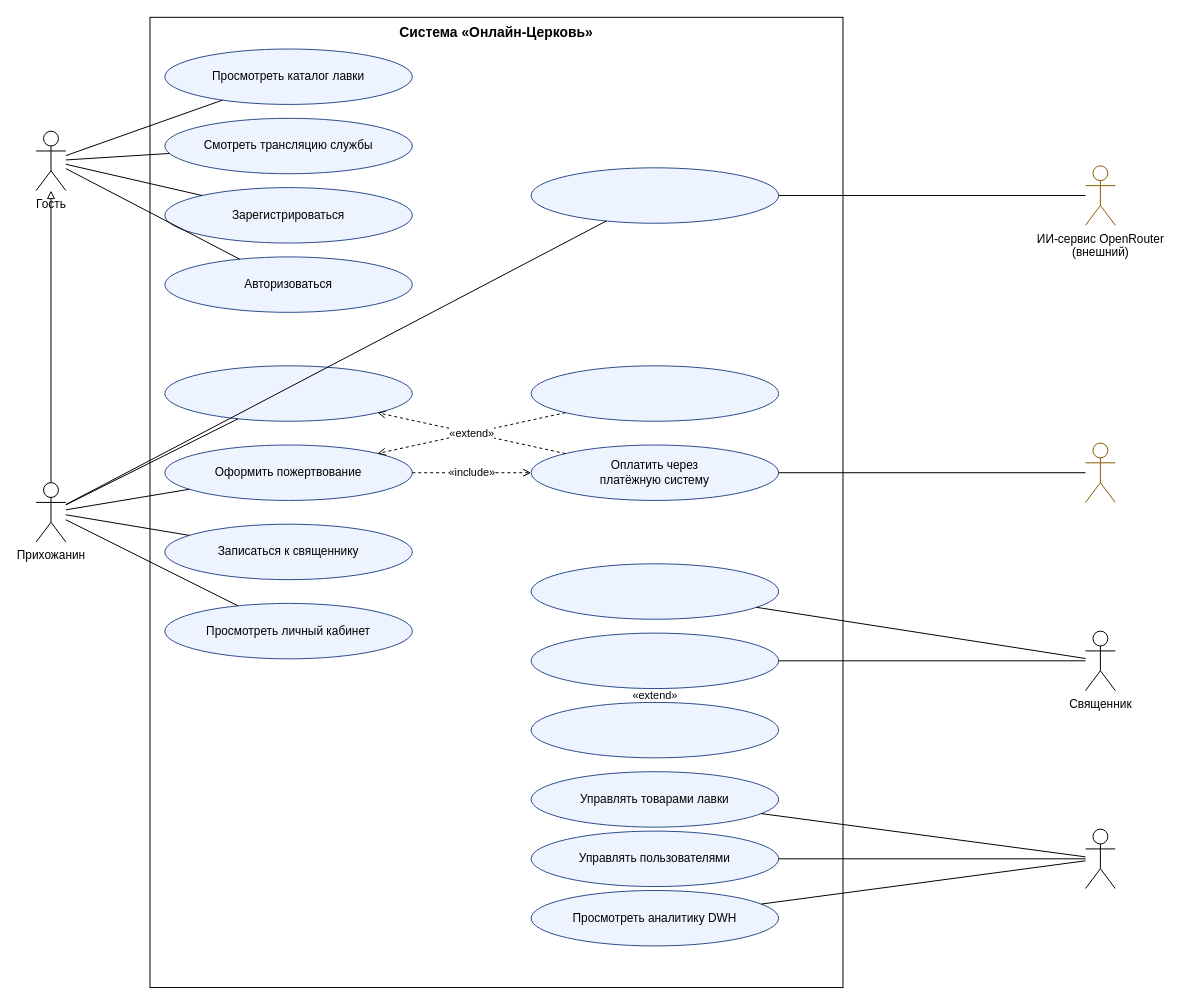
Some shapes in this 1181 by 1005 pixel diagram are drawn without their labels. Here are the shapes that lost their labels. From the top down, the box of each, then its label:
(530, 167, 779, 223): Консультироваться с ИИ-ассистентом
(164, 365, 412, 421): Подать записку (требу)
(530, 365, 779, 421): Просмотреть прогресс собора Minecraft
(1085, 442, 1115, 502): Платёжная система (внешняя)
(530, 563, 779, 619): Отметить записку помянутой
(530, 632, 779, 689): Просмотреть записи на приём
(530, 701, 779, 758): Подтвердить/отклонить запись
(1085, 828, 1115, 889): Администратор
